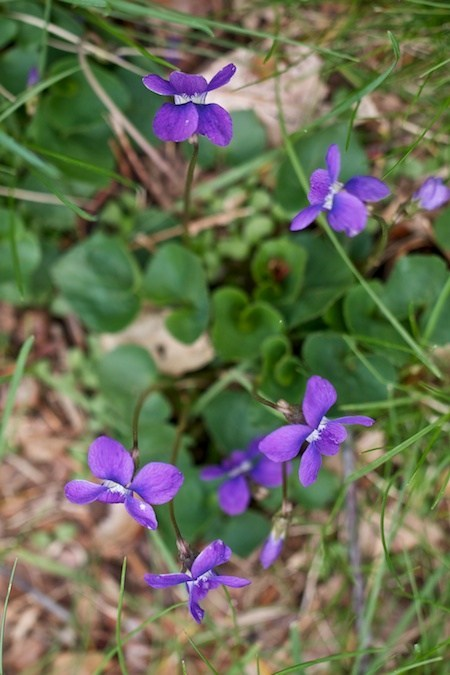violet: (242, 360, 378, 480), (62, 427, 188, 539), (143, 59, 249, 156), (301, 149, 394, 255), (148, 533, 257, 620)
